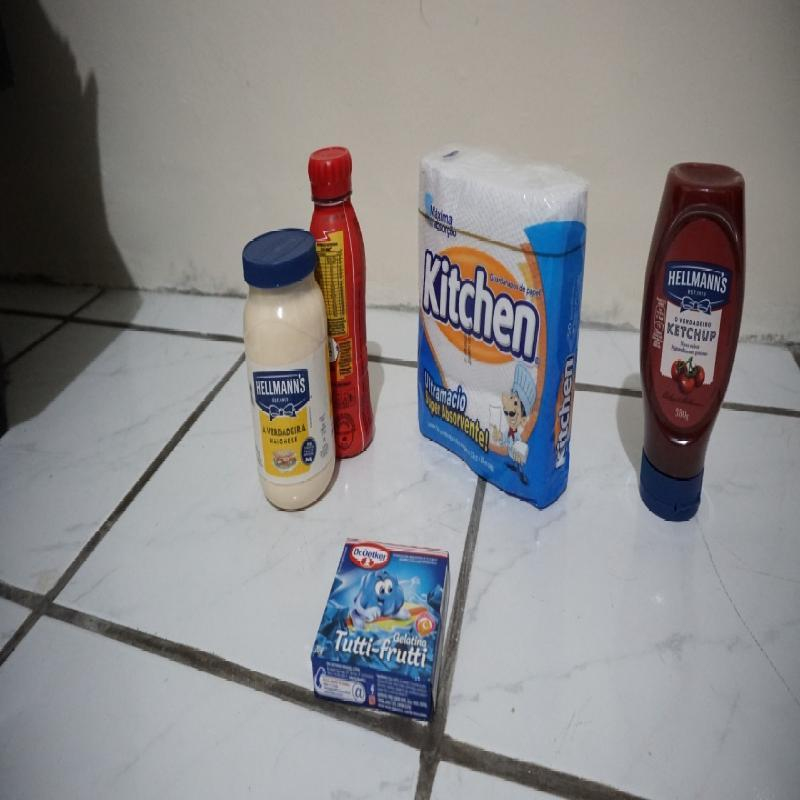Chocolate Milk: (304, 144, 376, 458)
Gelatine: (311, 536, 454, 725)
Ketchup: (637, 162, 747, 526)
Mayonnaise: (242, 224, 338, 513)
Napkin: (417, 147, 592, 509)
